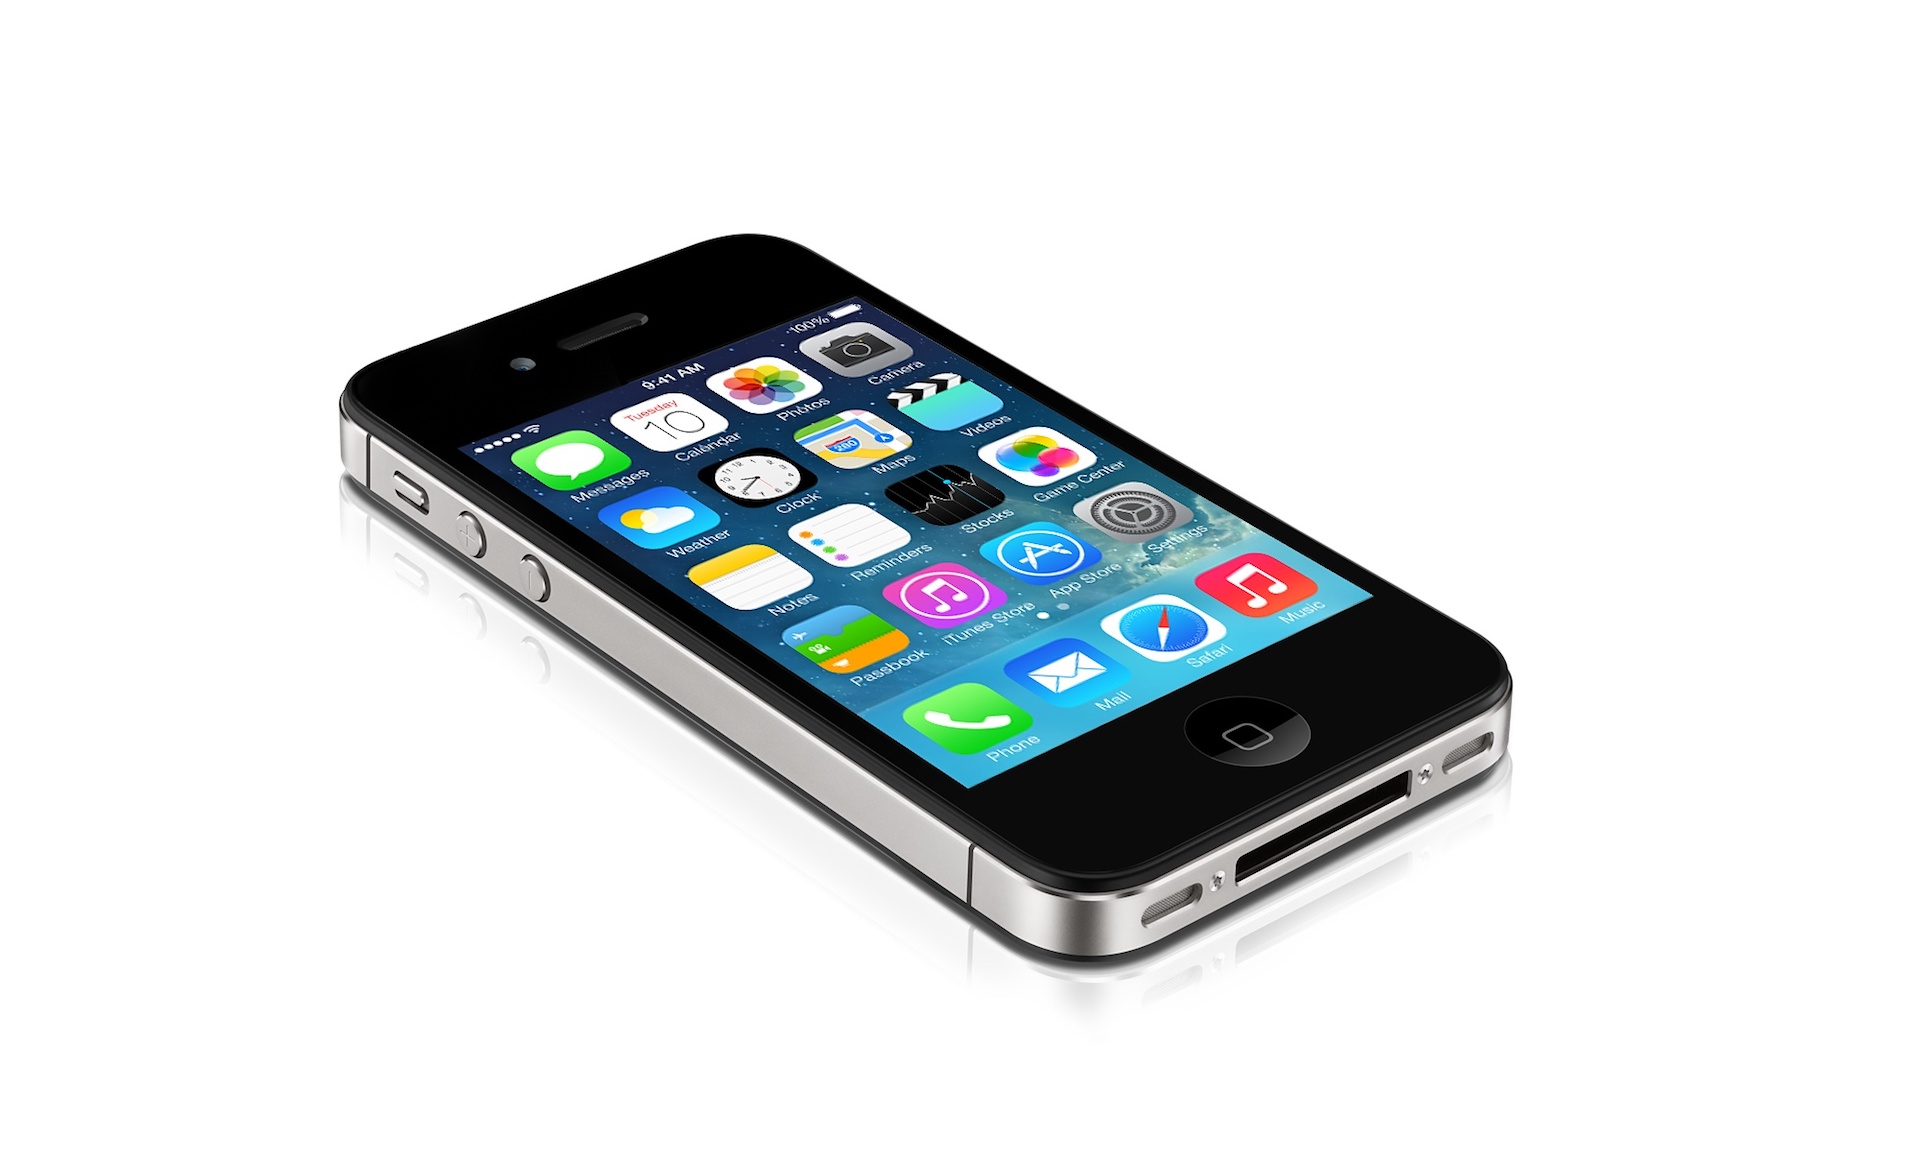smartphone: (333, 229, 1515, 972)
